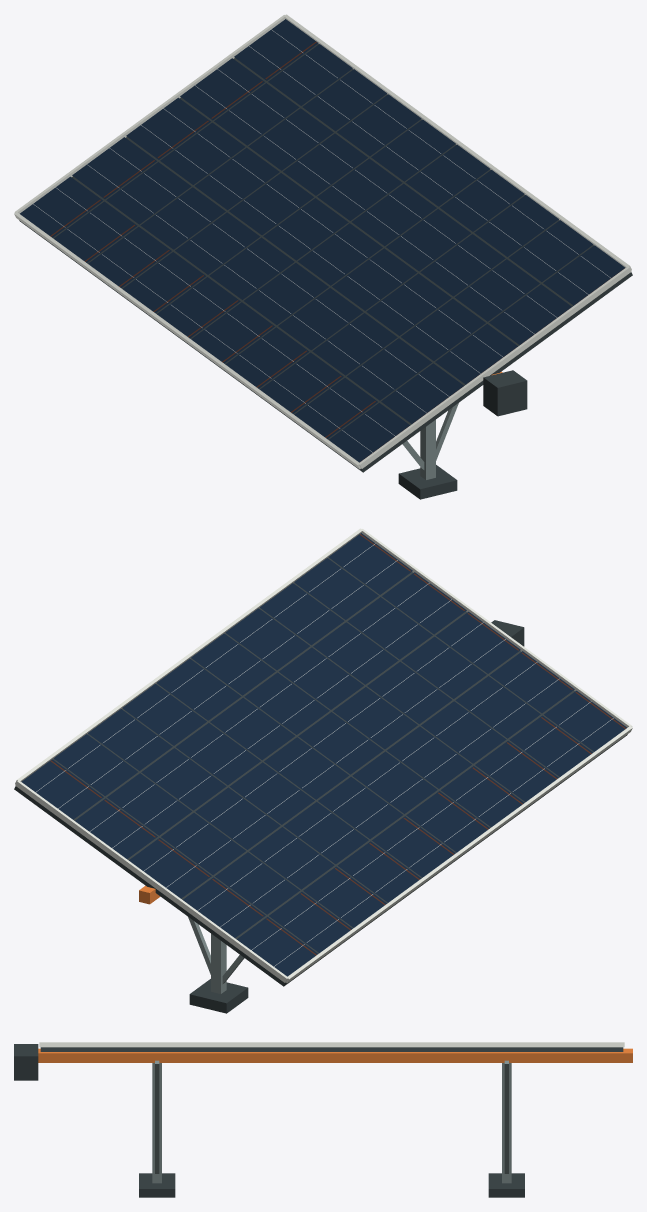
File: SM_MP_Solar_Tracker.fbx
3 renders of one model, top to bottom at view 1: azimuth 30°, elevation 25°; view 2: azimuth 150°, elevation 25°; view 3: azimuth 270°, elevation 25°, orthographic. The views are drawn at different scales.
Parts seen in each view (by area): view 1: SM_MP_Solar_Tracker; view 2: SM_MP_Solar_Tracker; view 3: SM_MP_Solar_Tracker.
Part boxes in pixels (x1,y1,x2,y2): SM_MP_Solar_Tracker: [14, 14, 632, 499]; SM_MP_Solar_Tracker: [14, 528, 632, 1013]; SM_MP_Solar_Tracker: [14, 1042, 632, 1197].
Size of what is drawn, in the model's own units: 555 by 1275 by 461.
